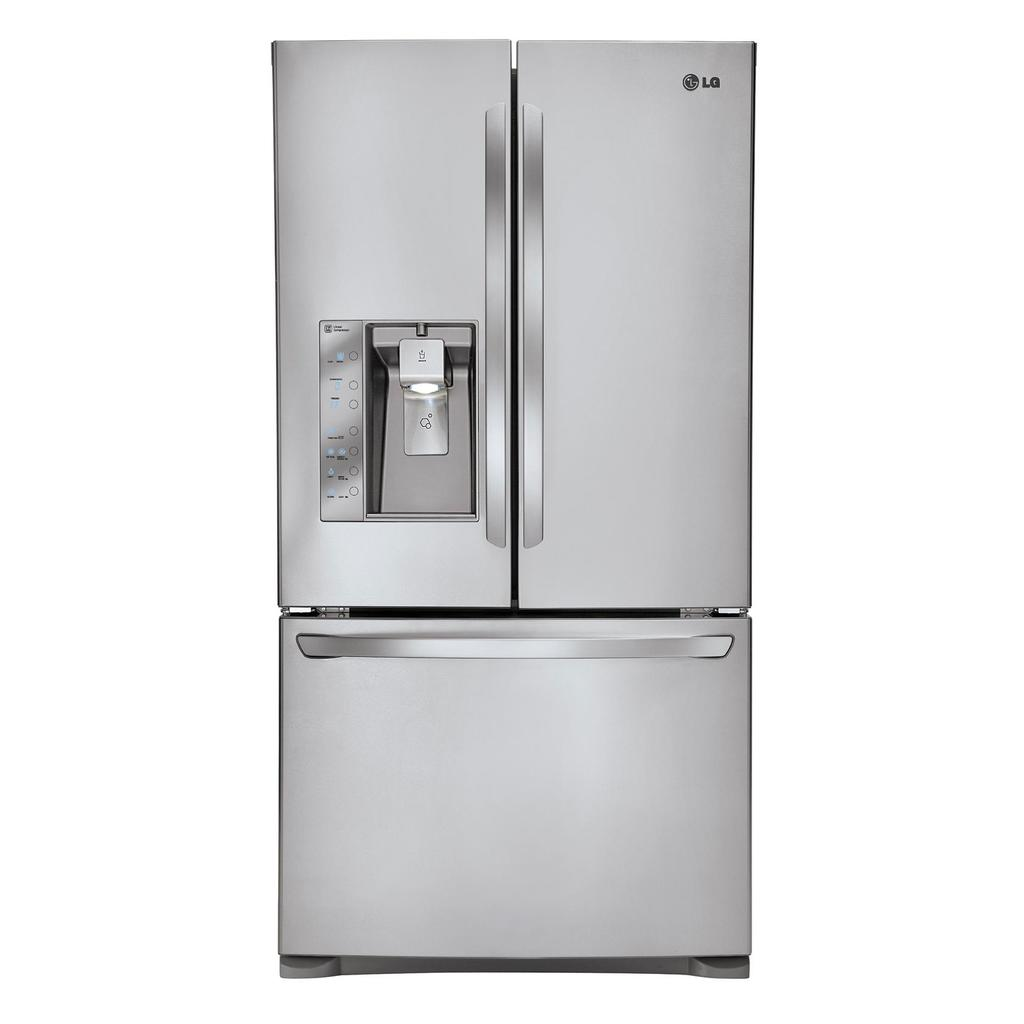handle: (298, 623, 733, 671), (476, 92, 516, 538), (519, 98, 547, 542)
refrigerator door: (285, 619, 750, 953), (270, 36, 514, 609), (518, 43, 754, 612)
